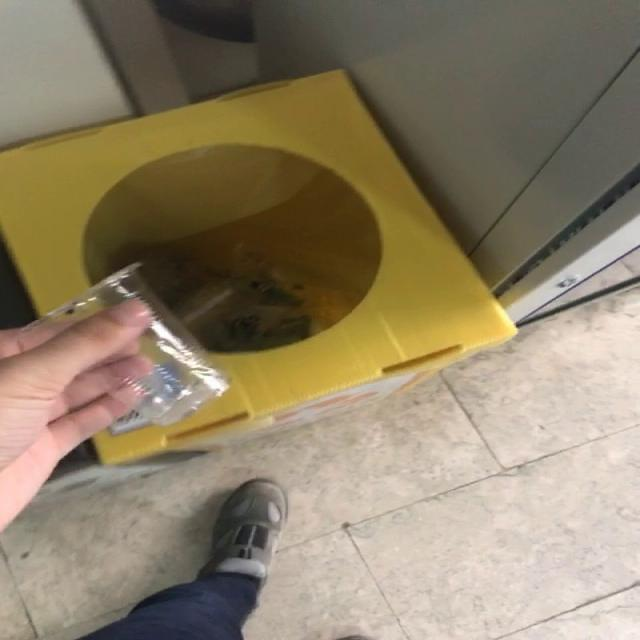Plastic: (23, 263, 229, 436)
